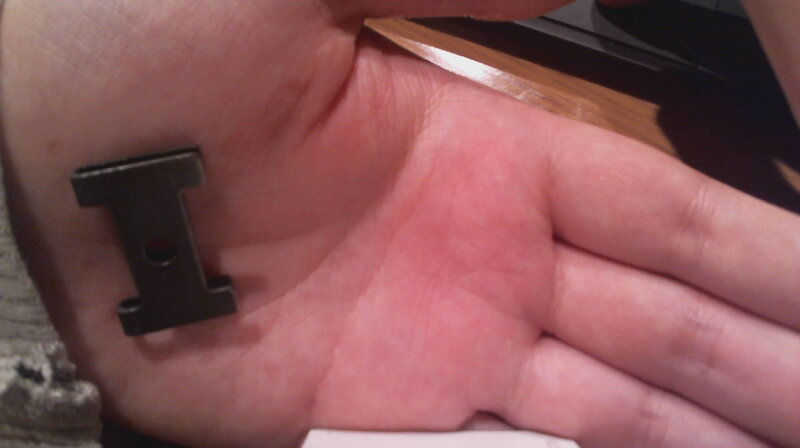O002: (64, 144, 238, 337)
